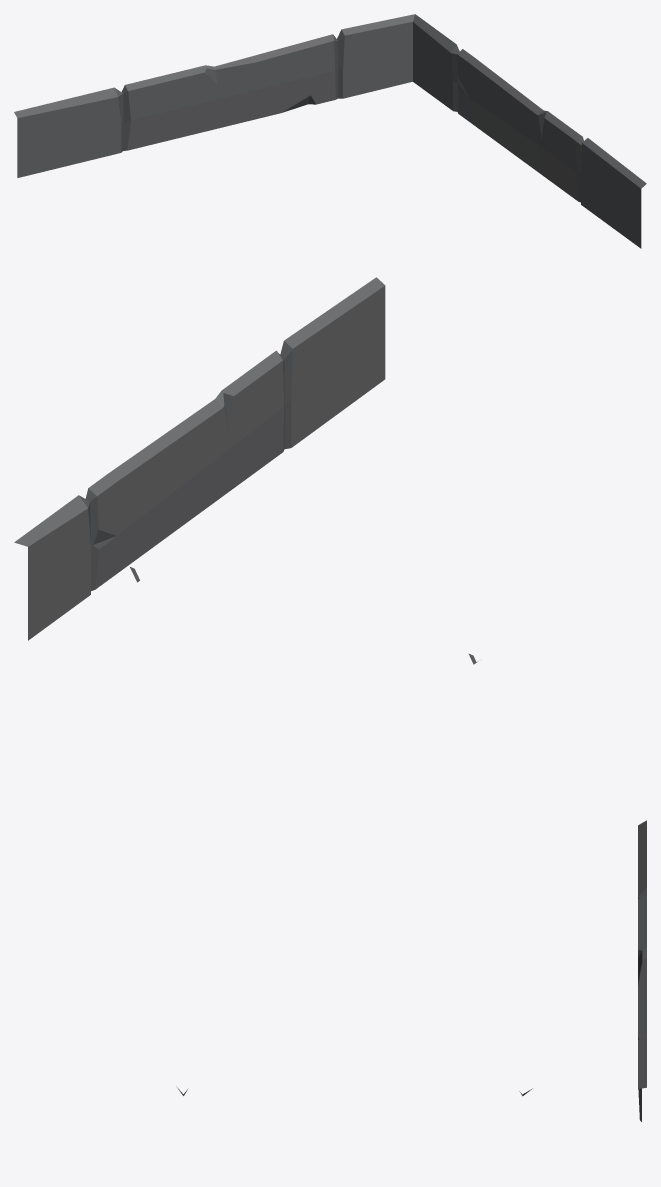
Rendered from SM_Foundation_Corner_In.gltf.
3 views of the same model, one above another, from view 1: azimuth 30°, elevation 25°; view 2: azimuth 150°, elevation 25°; view 3: azimuth 270°, elevation 25° (orthographic). The views are drawn at different scales.
Parts seen in each view (by area): view 1: SM_Foundation_Corner_In; view 2: SM_Foundation_Corner_In; view 3: SM_Foundation_Corner_In.
Part boxes in pixels (left/top/right/bottom): SM_Foundation_Corner_In: left=14, top=14, right=646, bottom=248; SM_Foundation_Corner_In: left=14, top=277, right=476, bottom=664; SM_Foundation_Corner_In: left=176, top=820, right=646, bottom=1121.
Bounding box in the file's own units: 2.8 × 0.4437 × 2.8.
1 material, 1 textured.
